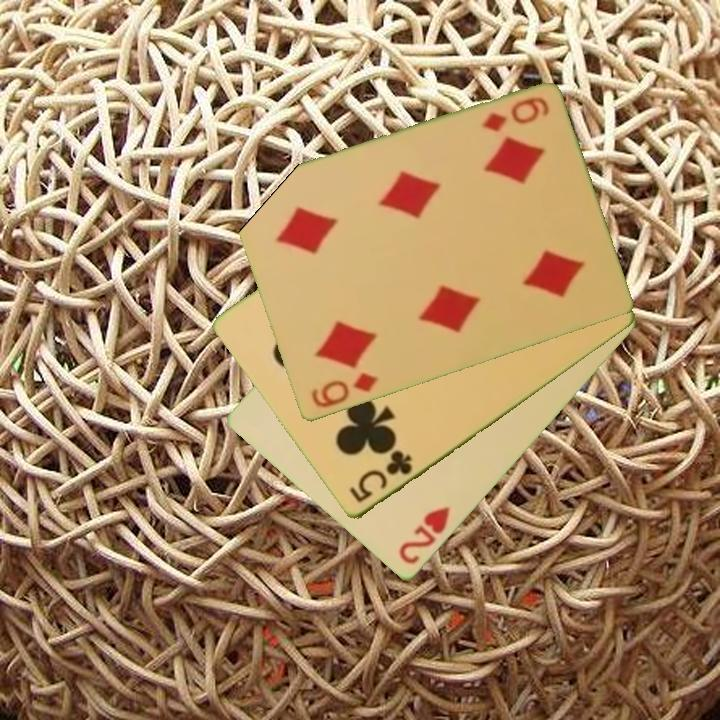2h: (395, 503, 453, 568)
5c: (345, 447, 415, 507)
6d: (307, 369, 381, 411), (478, 94, 552, 136)
